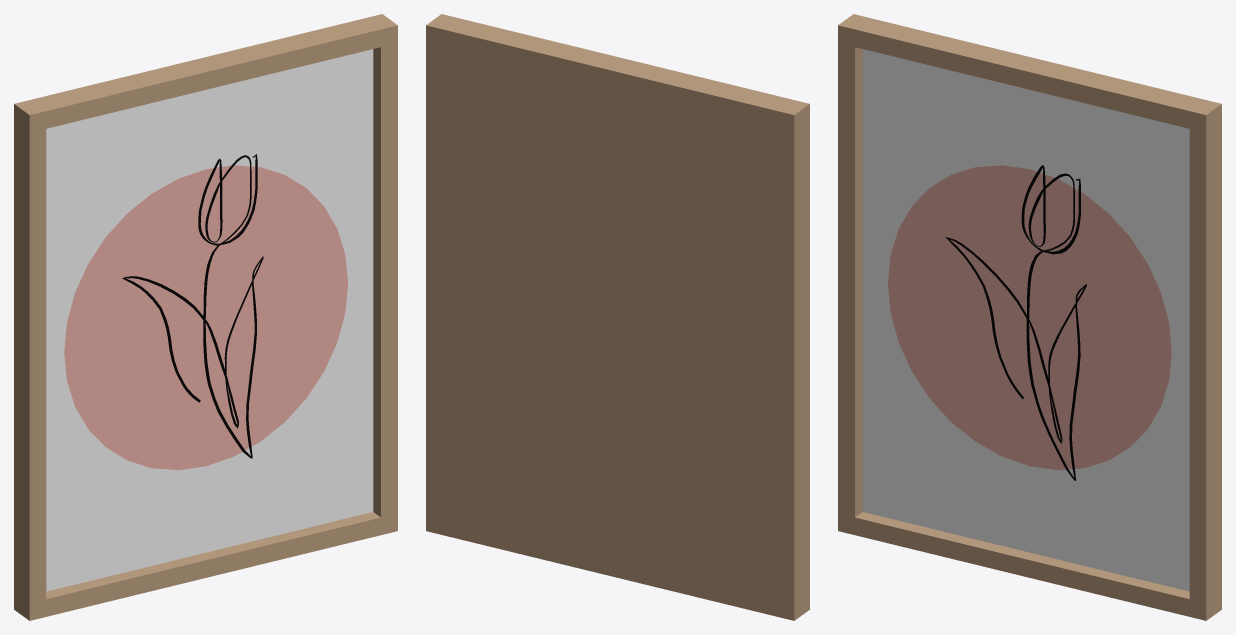
Rendered from quadro2.glb.
3 views of the same model, side by side, from view 1: azimuth 30°, elevation 25°; view 2: azimuth 150°, elevation 25°; view 3: azimuth 330°, elevation 25° (orthographic).
Parts seen in each view (by area): view 1: Art4; view 2: Art4; view 3: Art4.
Part boxes in pixels (x1,y1,x2,y2): Art4: [14, 14, 397, 620]; Art4: [426, 14, 809, 620]; Art4: [838, 14, 1221, 620].
Bounding box in the file's own units: 0.7623 × 1 × 0.0556.
